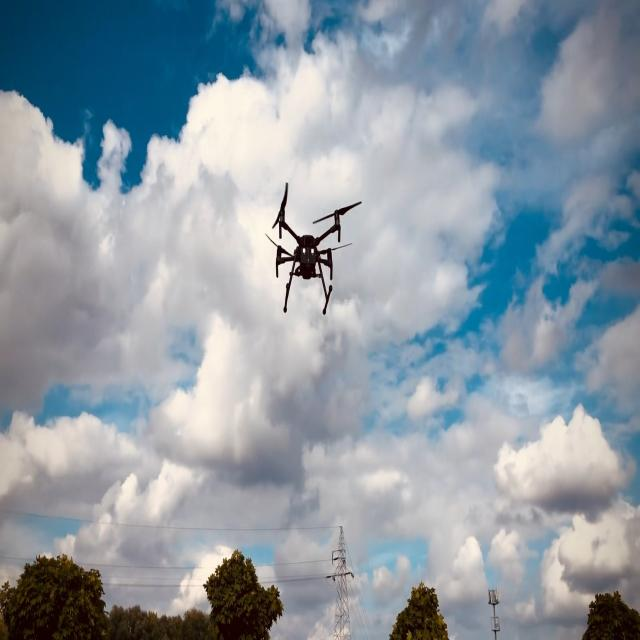drone: (264, 181, 362, 315)
